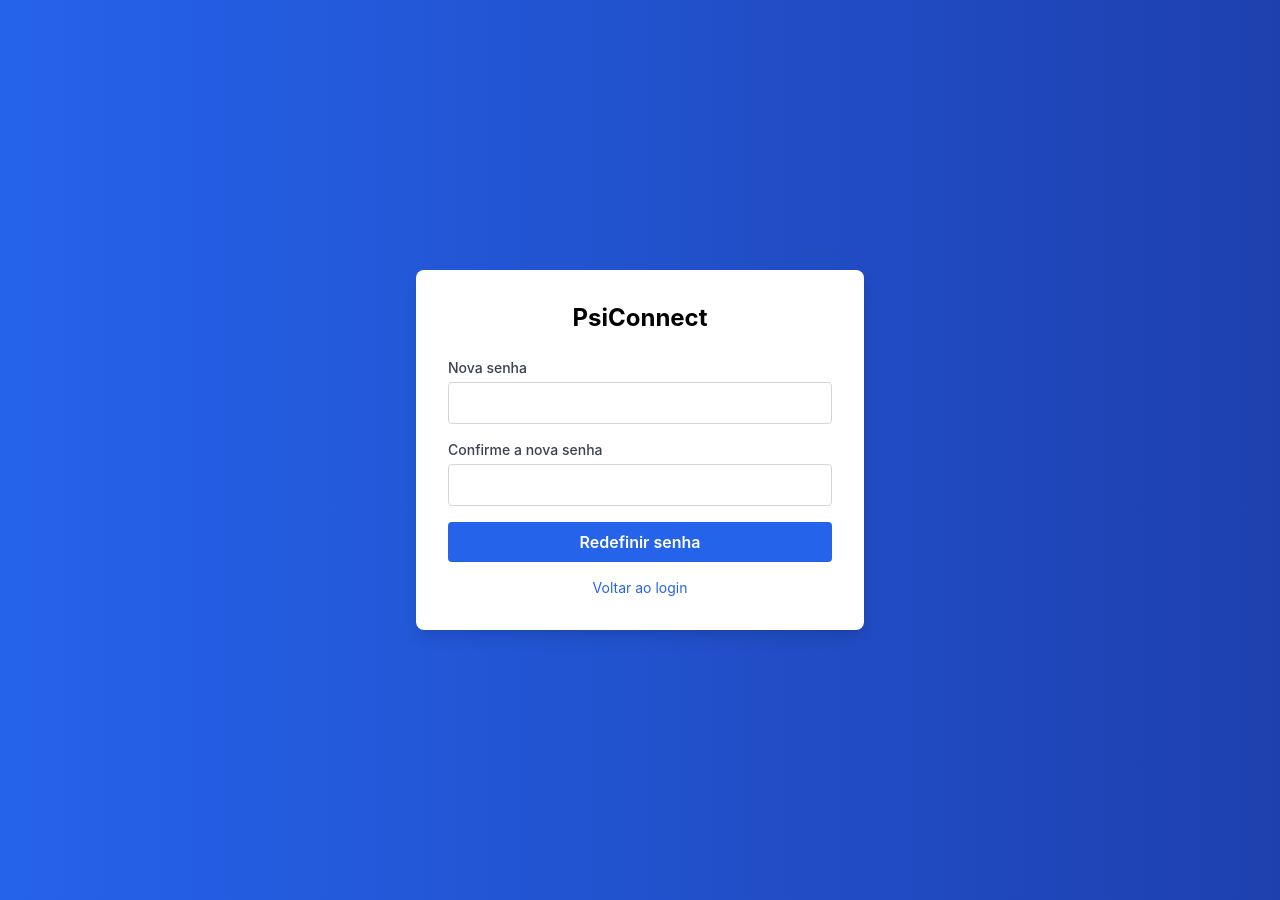
Test case: ResetPassword › exibe erro quando o token é rejeitado pelo backend
In the password field labelled "Nova senha": (640, 403) [448,382,832,424], type "senha-nova-123"
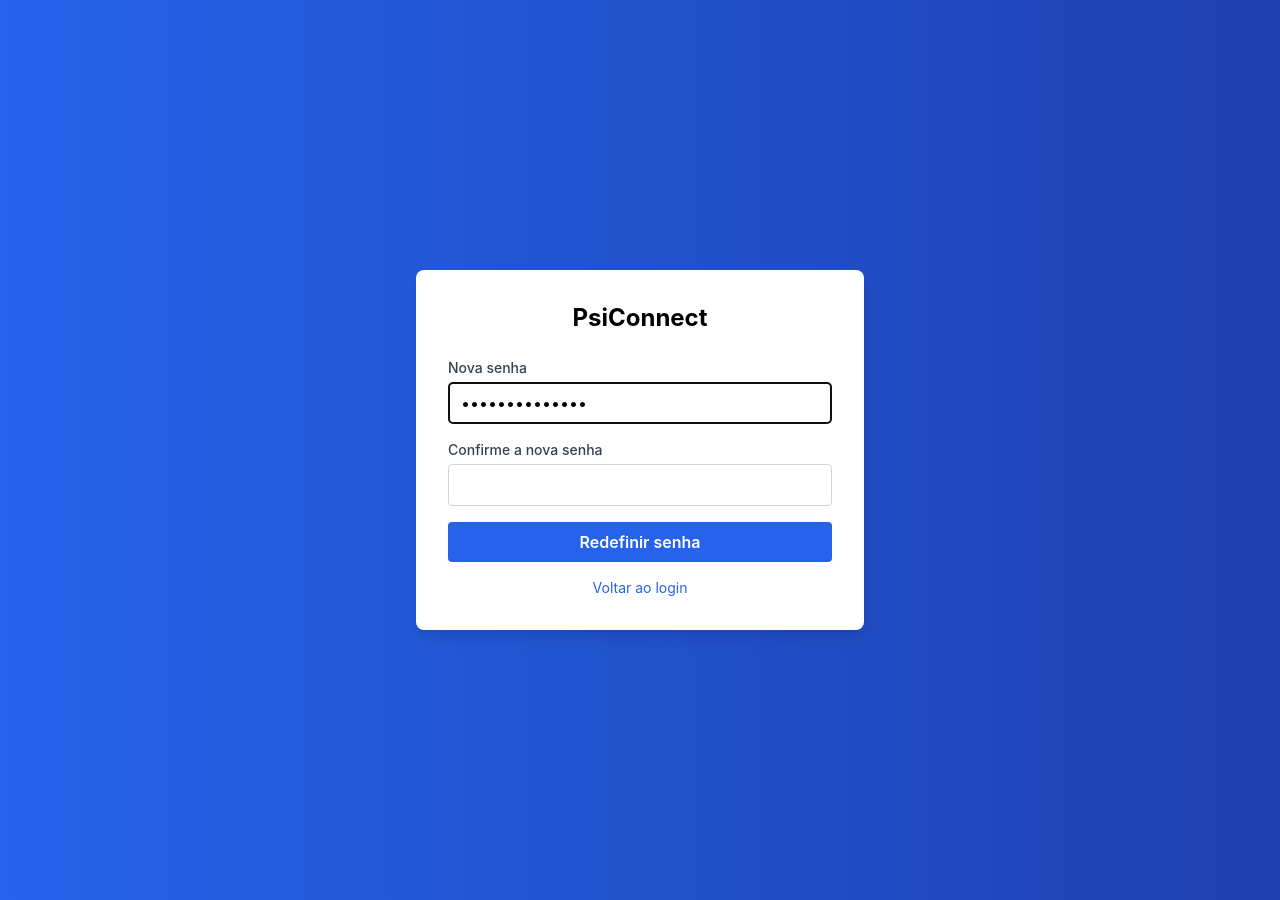
In the password field labelled "Confirme a nova senha": (640, 485) [448,464,832,506], type "senha-nova-123"
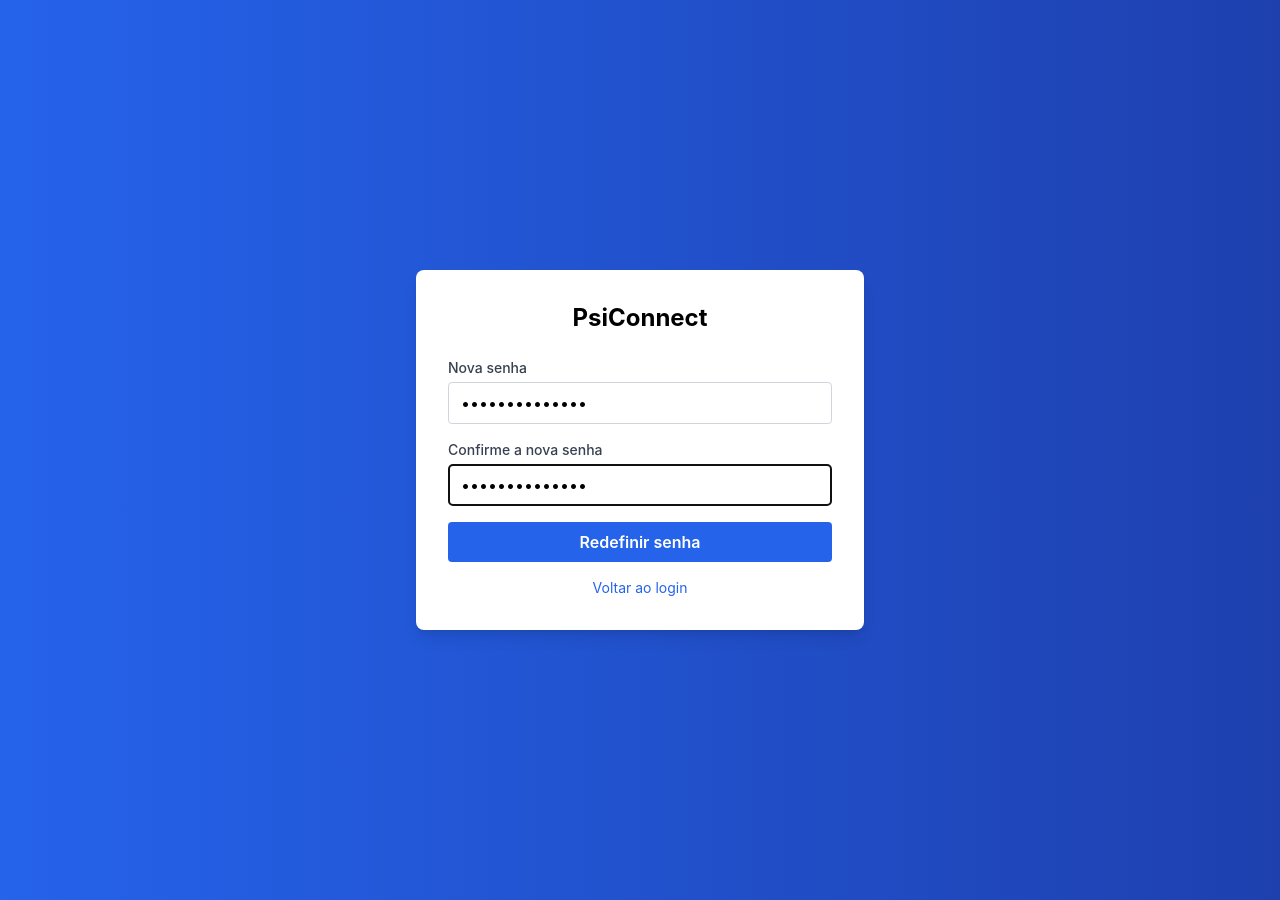
Click the button "Redefinir senha": (640, 542) [448,522,832,562]
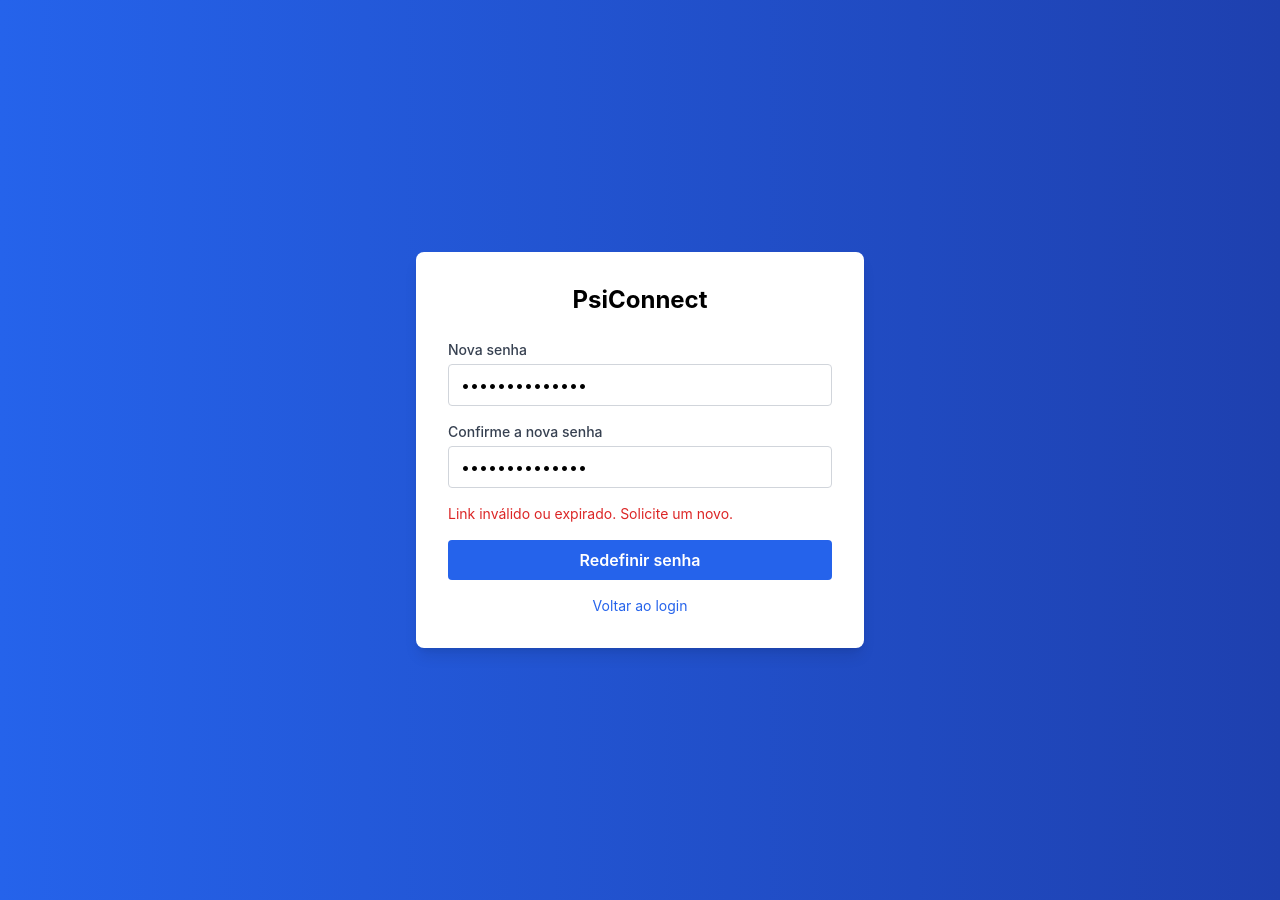
Now the message shows "inválido ou expirado", box [448,505,733,522]
